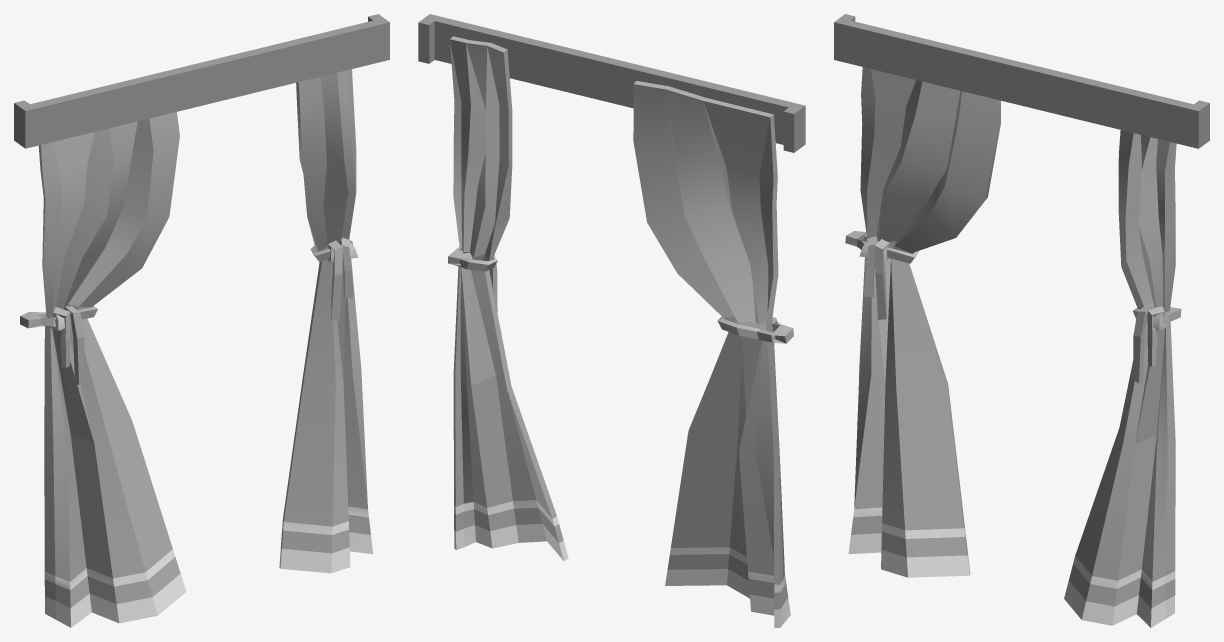
File: PT_Curtains_04.fbx
The picture shows the model from 3 angles, left to right: view 1: azimuth 30°, elevation 25°; view 2: azimuth 150°, elevation 25°; view 3: azimuth 330°, elevation 25°; orthographic projection. The views are drawn at different scales.
Parts seen in each view (by area): view 1: PT_Curtains_04; view 2: PT_Curtains_04; view 3: PT_Curtains_04.
Part boxes in pixels (x1,y1,x2,y2): PT_Curtains_04: (14, 14, 389, 627); PT_Curtains_04: (418, 14, 805, 627); PT_Curtains_04: (834, 14, 1209, 627).
Size of the model in its own units: 165 by 222 by 35.46.
Materials: 1 (1 with a texture image).
